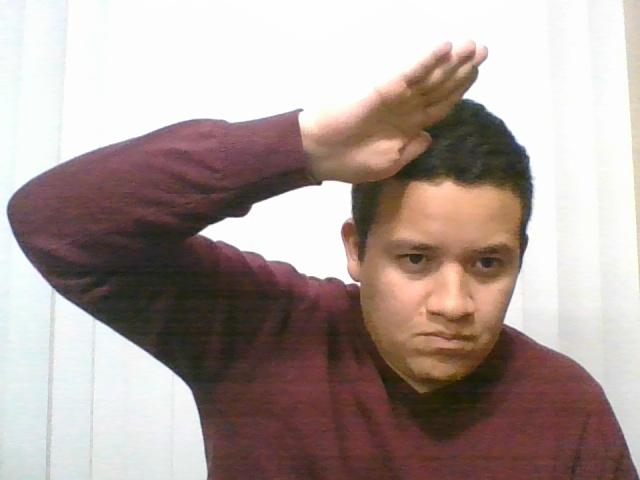Dad: (274, 22, 507, 209)
